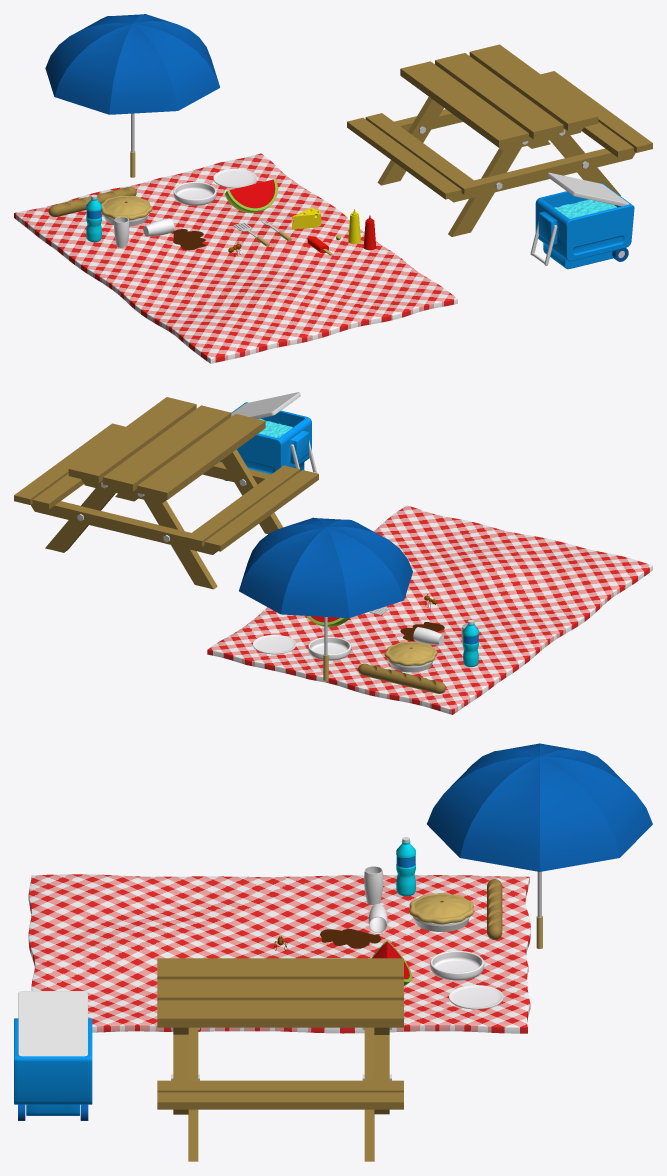
The model's file is picnic02.fbx.
The picture shows the model from 3 angles, top to bottom: view 1: azimuth 30°, elevation 25°; view 2: azimuth 150°, elevation 25°; view 3: azimuth 270°, elevation 25°; orthographic projection. The views are drawn at different scales.
Parts seen in each view (by area): view 1: cloth, table, unbrella, cooler, melon, pie, spill, bowl, bread, plate, water, cheese; view 2: cloth, table, unbrella, cooler, pie, bread, bowl, spill, plate, water; view 3: cloth, table, unbrella, cooler, pie, bowl, spill, plate, water, bread, cup.
Boxes of the visible parts, x1,y1,x2,y2 form: cloth: (14,153,457,363); table: (347,44,652,236); unbrella: (45,14,219,177); cooler: (530,172,634,269); melon: (225,179,277,213); pie: (101,195,152,226); spill: (143,218,205,250); bowl: (173,182,216,205); bread: (48,187,136,217); plate: (213,168,256,188); water: (86,194,101,242); cheese: (292,207,321,229); cloth: (207,505,652,714); table: (14,397,318,589); unbrella: (239,517,412,680); cooler: (220,392,317,480); pie: (384,641,437,672); bread: (358,663,445,693); bowl: (308,637,351,660); spill: (400,622,444,645); plate: (252,635,296,654); water: (463,620,478,667); cloth: (28,874,530,1033); table: (157,958,403,1161); unbrella: (427,743,652,948); cooler: (14,991,92,1120); pie: (409,893,473,931); bowl: (430,950,484,980); spill: (320,904,387,948); plate: (449,985,503,1009); water: (396,837,415,896); bread: (487,879,502,939); cup: (364,866,383,905).
Size of the model in its own units: 4005 by 1260 by 3593.
